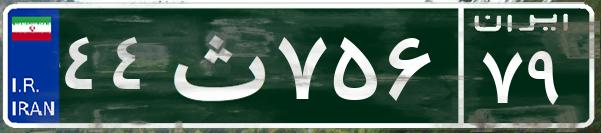4: (57, 26, 110, 107), (110, 28, 158, 105)
5: (330, 28, 385, 110)
6: (385, 28, 445, 110)
7: (273, 28, 330, 110), (475, 38, 525, 113)
9: (525, 38, 570, 115)
ث: (158, 15, 273, 115)
